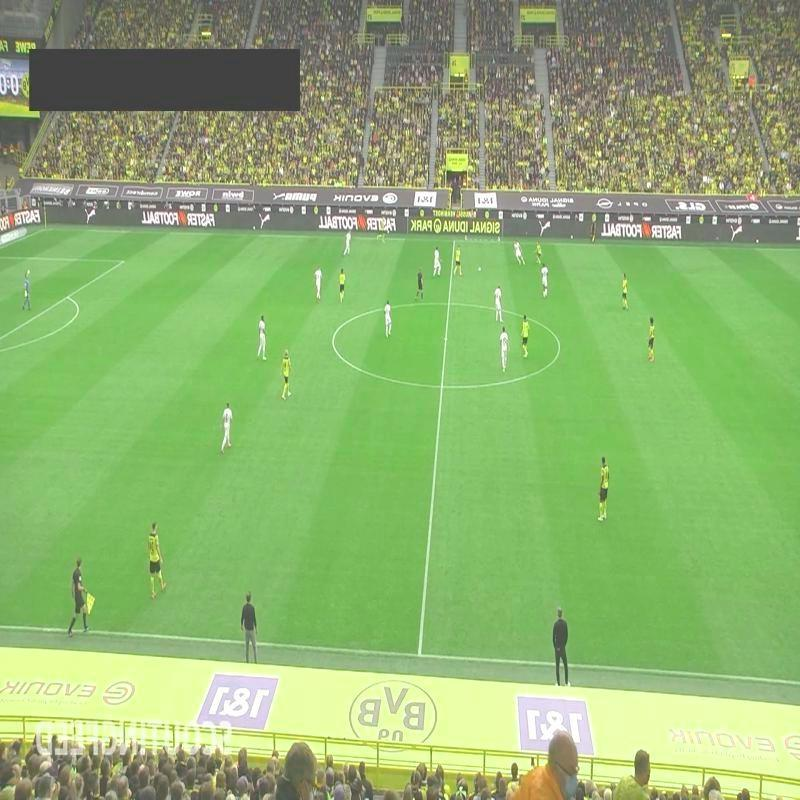1: (38, 223, 52, 237)
10: (60, 290, 74, 304)
13: (447, 234, 462, 247)
14: (442, 295, 458, 311)
15: (434, 378, 450, 394)
16: (410, 644, 428, 664)
9: (116, 255, 131, 269)
c: (326, 329, 341, 347), (553, 338, 566, 354)
